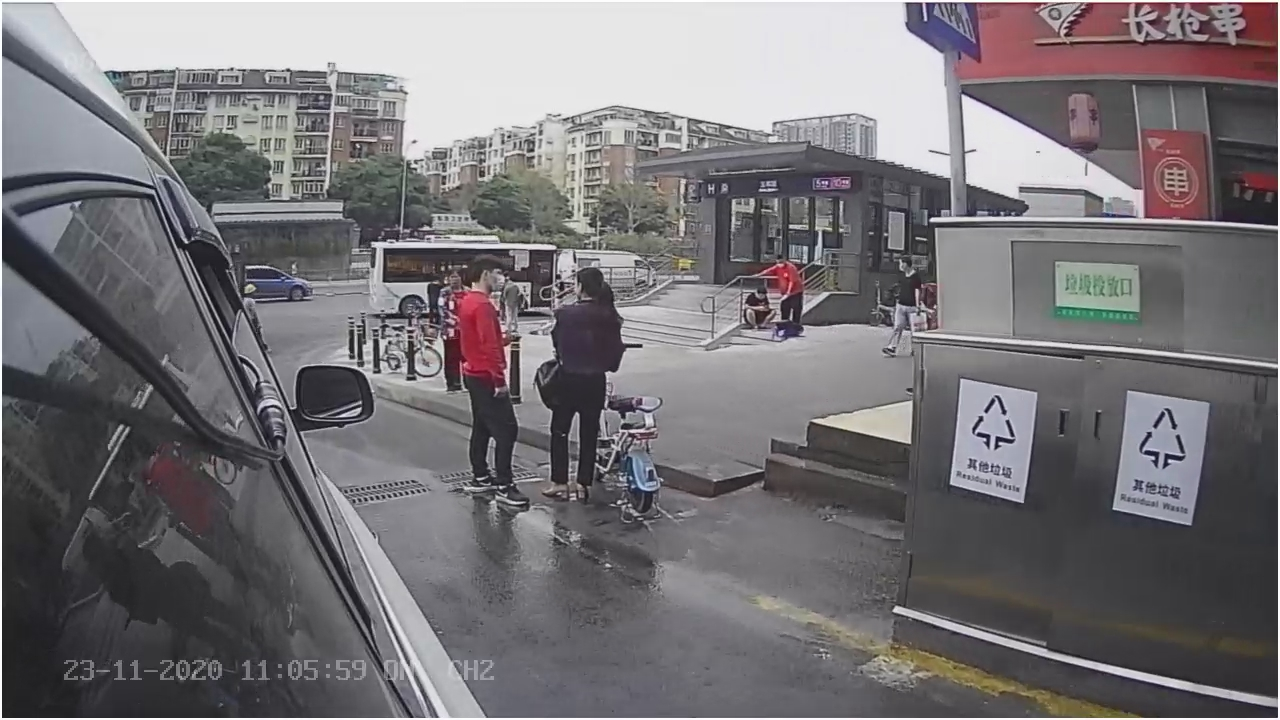person: (448, 257, 531, 528)
